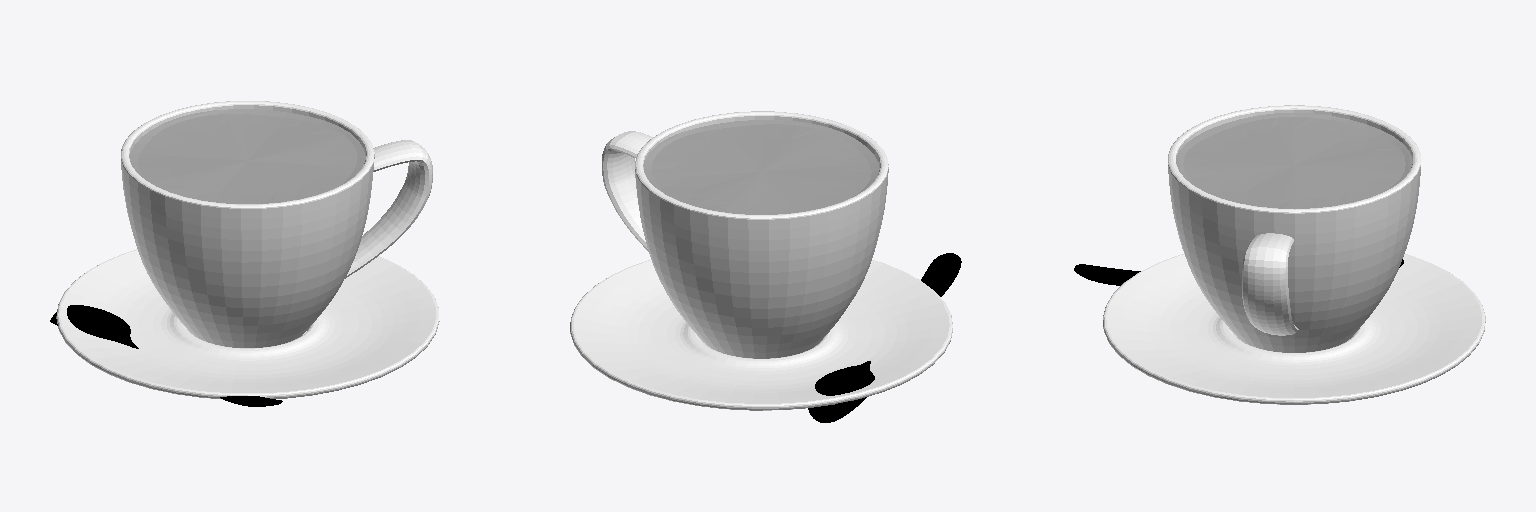
Rendered from coffee-cup.obj.
The picture shows the model from 3 angles: view 1: azimuth 30°, elevation 25°; view 2: azimuth 150°, elevation 25°; view 3: azimuth 270°, elevation 25°; orthographic projection.
Visible parts, largest first — view 1: cup, plate, cappuccino, spoon; view 2: cup, plate, cappuccino, spoon; view 3: cup, plate, cappuccino, spoon.
Part boxes in pixels (bbox=[...]): cup: bbox=[121, 101, 432, 347]; plate: bbox=[56, 249, 439, 398]; cappuccino: bbox=[130, 109, 365, 203]; spoon: bbox=[50, 305, 282, 406]; cup: bbox=[602, 111, 888, 358]; plate: bbox=[570, 260, 952, 410]; cappuccino: bbox=[644, 120, 879, 214]; spoon: bbox=[808, 253, 961, 422]; cup: bbox=[1168, 105, 1420, 352]; plate: bbox=[1103, 254, 1485, 404]; cappuccino: bbox=[1177, 113, 1412, 208]; spoon: bbox=[1074, 259, 1403, 285].
Bounding box in the file's own units: 0.1331 × 0.0747 × 0.1426.